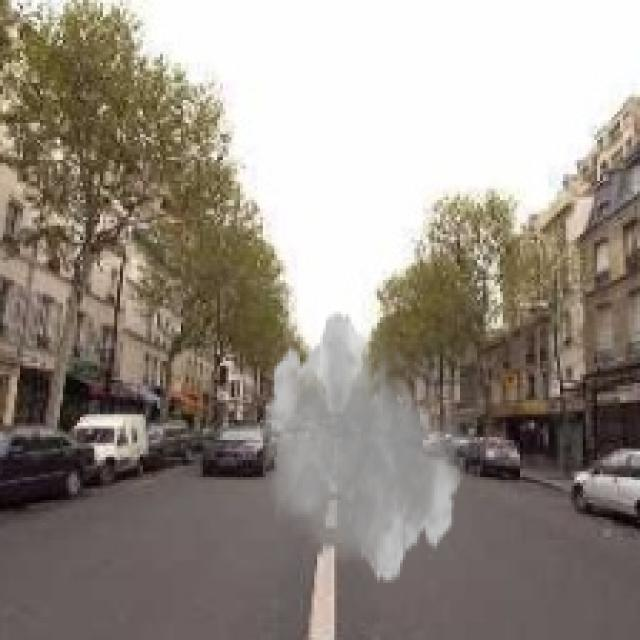Smoke: (260, 308, 466, 586)
